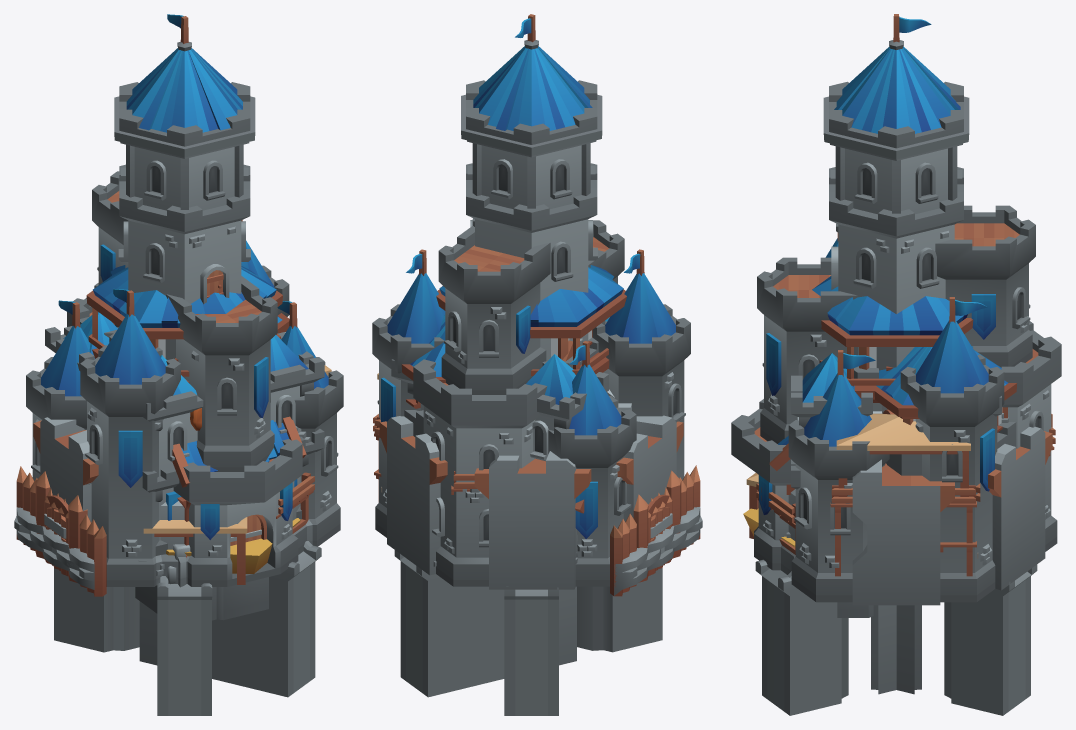
File: town.glb
3 renders of one model, left to right at view 1: azimuth 30°, elevation 25°; view 2: azimuth 150°, elevation 25°; view 3: azimuth 270°, elevation 25°, orthographic. The views are drawn at different scales.
Parts seen in each view (by area): view 1: building_castle_blue, building_bridge_A, building_barracks_blue, building_bridge_B, building_tower_B_top_blue, building_watermill_blue, building_scaffolding, wall_corner_B_inside, fence_stone_straight, fence_wood_straight, fence_wood_straight_gate, building_grain (+1 smaller); view 2: building_castle_blue, building_bridge_B, wall_corner_B_inside, building_bridge_A, wall_corner_B_outside, building_tower_B_top_blue, wall_corner_A_outside, building_barracks_blue, wall_corner_A_inside, fence_stone_straight, fence_wood_straight, fence_wood_straight_gate (+2 smaller); view 3: building_castle_blue, building_bridge_A, building_bridge_B, wall_straight, building_scaffolding, building_tower_B_top_blue, wall_corner_A_inside, wall_corner_A_outside, wall_straight_gate, building_archeryrange_blue, building_barracks_blue, building_watermill_blue.
Part boxes in pixels (x1,y1,x2,y2): building_castle_blue: (26, 14, 343, 586); building_bridge_A: (54, 541, 321, 697); building_barracks_blue: (45, 312, 324, 585); building_bridge_B: (157, 576, 212, 715); building_tower_B_top_blue: (86, 264, 282, 383); building_watermill_blue: (135, 416, 306, 620); building_scaffolding: (143, 365, 331, 584); wall_corner_B_inside: (40, 417, 94, 510); fence_stone_straight: (14, 507, 94, 589); fence_wood_straight: (16, 466, 106, 596); fence_wood_straight_gate: (24, 471, 106, 596); building_grain: (166, 518, 300, 573); building_castle_blue: (372, 14, 690, 586); building_bridge_B: (394, 548, 662, 697); wall_corner_B_inside: (474, 421, 683, 589); building_bridge_A: (504, 586, 558, 715); wall_corner_B_outside: (489, 403, 671, 589); building_tower_B_top_blue: (436, 265, 626, 375); wall_corner_A_outside: (387, 416, 676, 574); building_barracks_blue: (391, 317, 609, 461); wall_corner_A_inside: (379, 421, 681, 575); fence_stone_straight: (614, 507, 702, 595); fence_wood_straight: (610, 465, 700, 596); fence_wood_straight_gate: (610, 470, 700, 596); building_castle_blue: (731, 14, 1061, 602); building_bridge_A: (755, 559, 896, 715); building_bridge_B: (896, 564, 1037, 715); wall_straight: (852, 459, 954, 591); building_scaffolding: (746, 413, 1055, 576); building_tower_B_top_blue: (812, 276, 973, 402); wall_corner_A_inside: (988, 426, 1045, 590); wall_corner_A_outside: (995, 431, 1052, 575); wall_straight_gate: (852, 403, 954, 605); building_archeryrange_blue: (868, 346, 1017, 475); building_barracks_blue: (791, 353, 1001, 557); building_watermill_blue: (769, 436, 873, 617).
Bounding box in the file's own units: 2.1 × 4.98 × 2.26.
1 material, 1 textured.
